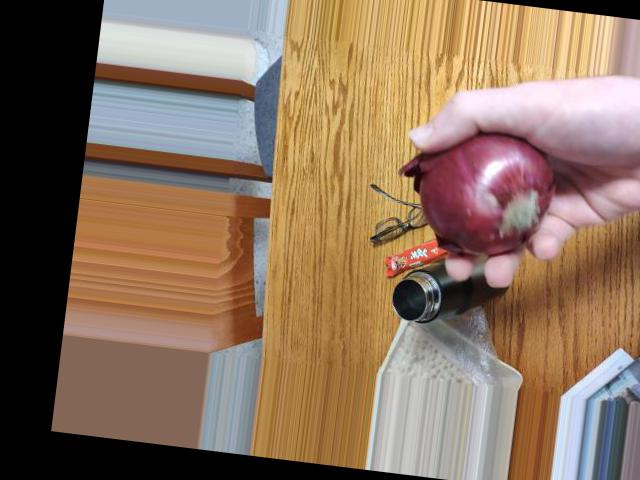onion: (417, 127, 551, 258)
